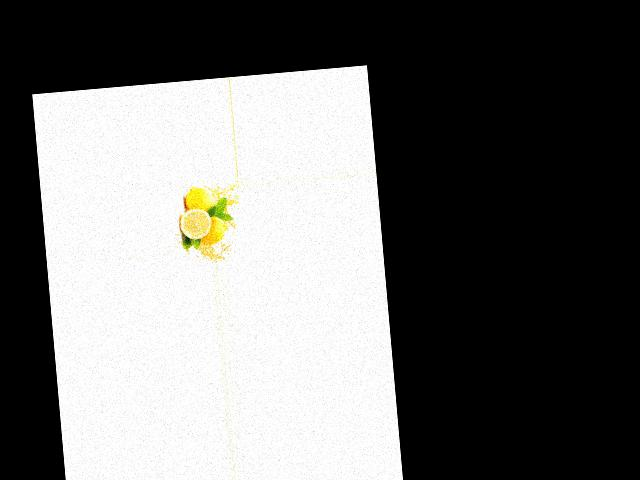lemon: (182, 186, 217, 219)
